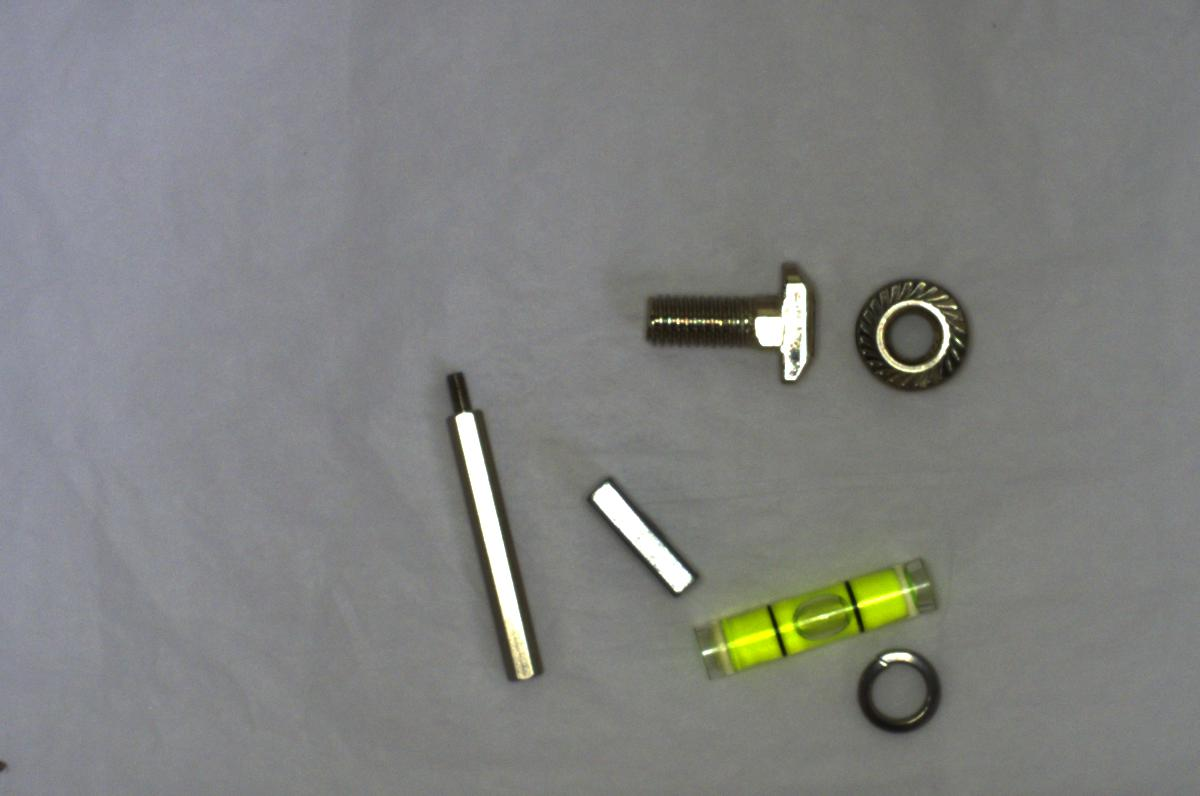Flange nut: (842, 269, 979, 394)
Hexagonal steel column: (433, 362, 544, 685)
Horizontal bubble: (687, 553, 945, 683)
Rectangular nut: (582, 469, 705, 595)
Spring washer: (846, 636, 946, 738)
T-shaped screw: (626, 254, 817, 396)
